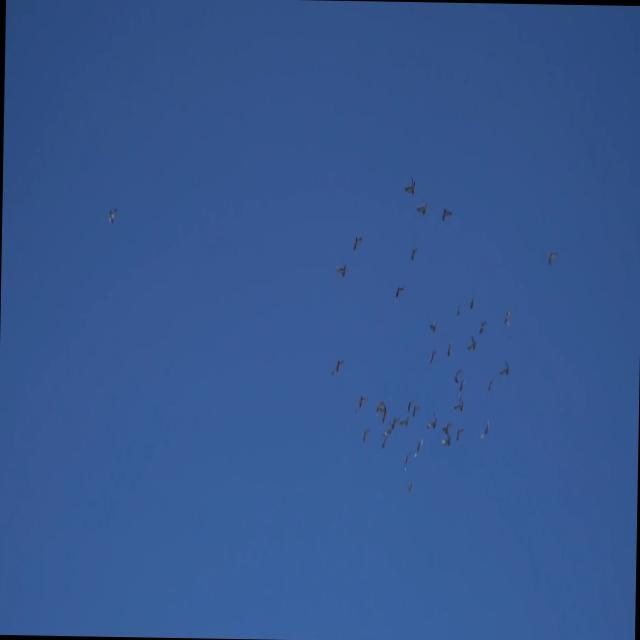bird: (403, 176, 416, 197), (452, 392, 464, 413), (416, 197, 427, 219), (107, 205, 118, 227), (331, 356, 343, 376), (499, 359, 510, 378), (477, 314, 486, 337), (427, 412, 438, 430), (481, 421, 490, 443), (360, 425, 371, 443), (394, 284, 404, 303), (503, 309, 513, 328), (547, 250, 558, 267), (413, 437, 422, 457), (441, 207, 452, 223), (402, 451, 410, 473), (467, 334, 476, 353), (337, 263, 347, 279), (358, 393, 367, 410), (352, 236, 362, 251), (380, 432, 389, 448), (454, 365, 461, 385), (375, 397, 382, 417), (410, 245, 418, 261), (442, 434, 450, 450), (429, 319, 438, 333), (445, 341, 452, 359), (399, 416, 409, 428), (388, 418, 398, 430), (429, 348, 436, 365), (486, 375, 493, 392), (441, 422, 450, 435), (382, 404, 388, 423), (405, 398, 412, 414), (412, 404, 420, 418), (456, 428, 464, 442), (469, 297, 475, 314), (460, 378, 465, 394), (454, 304, 460, 316), (406, 481, 412, 491)
